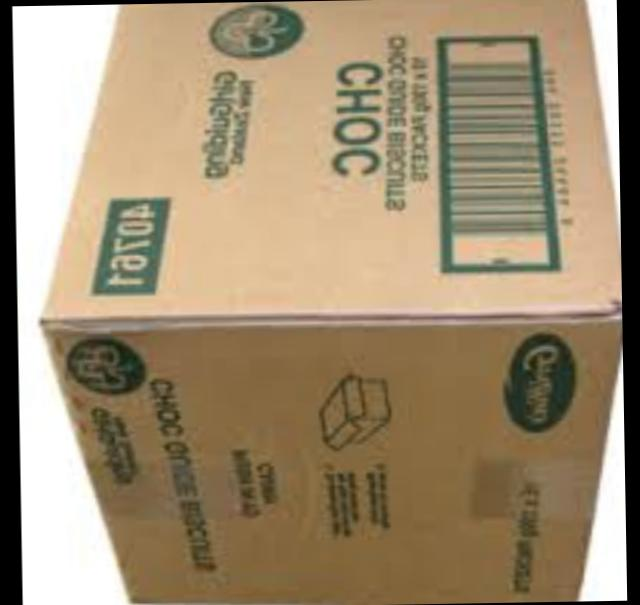cardboard paper: (41, 0, 620, 601)
